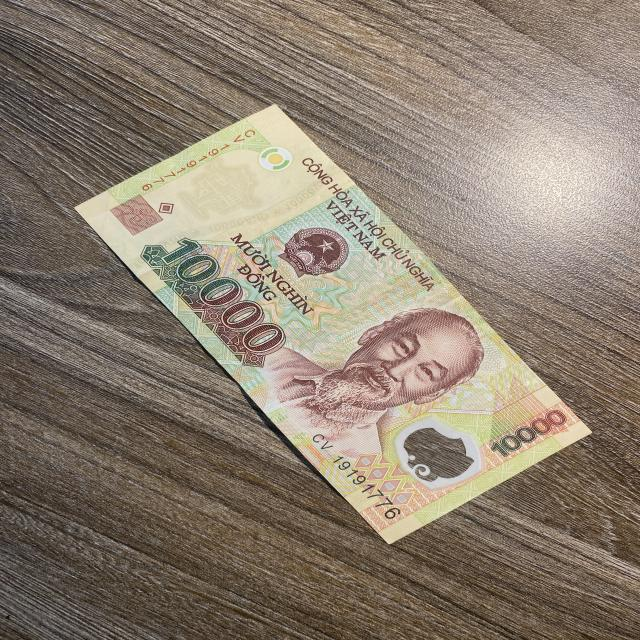10 000 VND: (65, 91, 597, 547)
